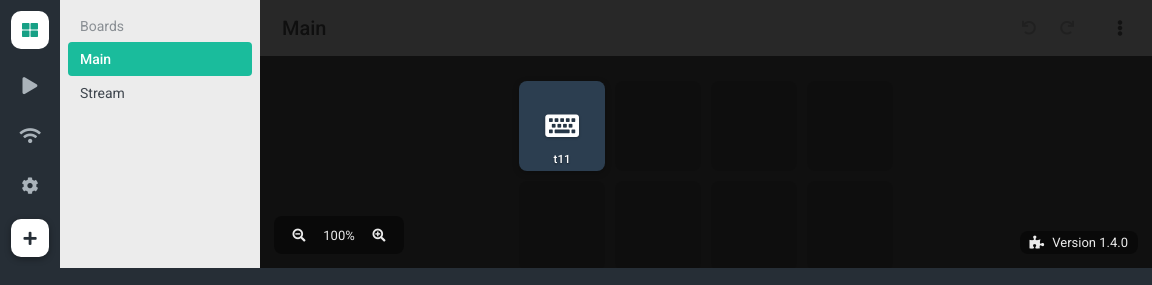
Scenario: App boards and tiles › switches boards from the sidebar
The width and height of the screenshot is (1152, 285).
Click the button with class "board-entry" showing "Stream" at point(160, 93), box 68,76 -> 252,110
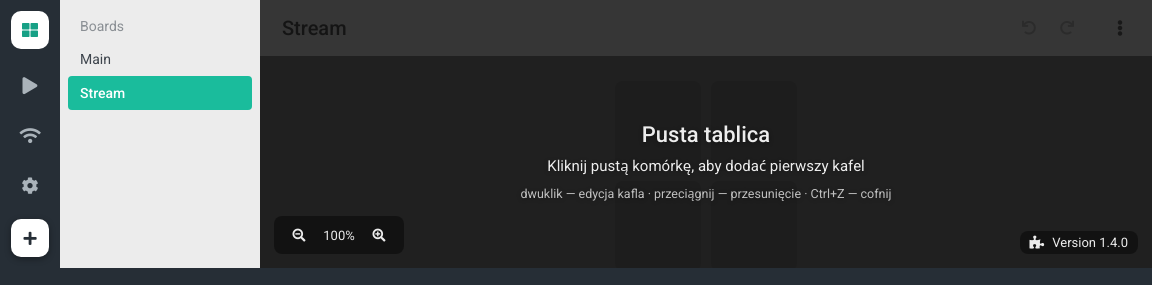
Check: the text with class "board-title" reads "Stream", box 282,16 -> 347,40
Check: the element with class "canvas-hint" is shown, box 520,122 -> 892,202
